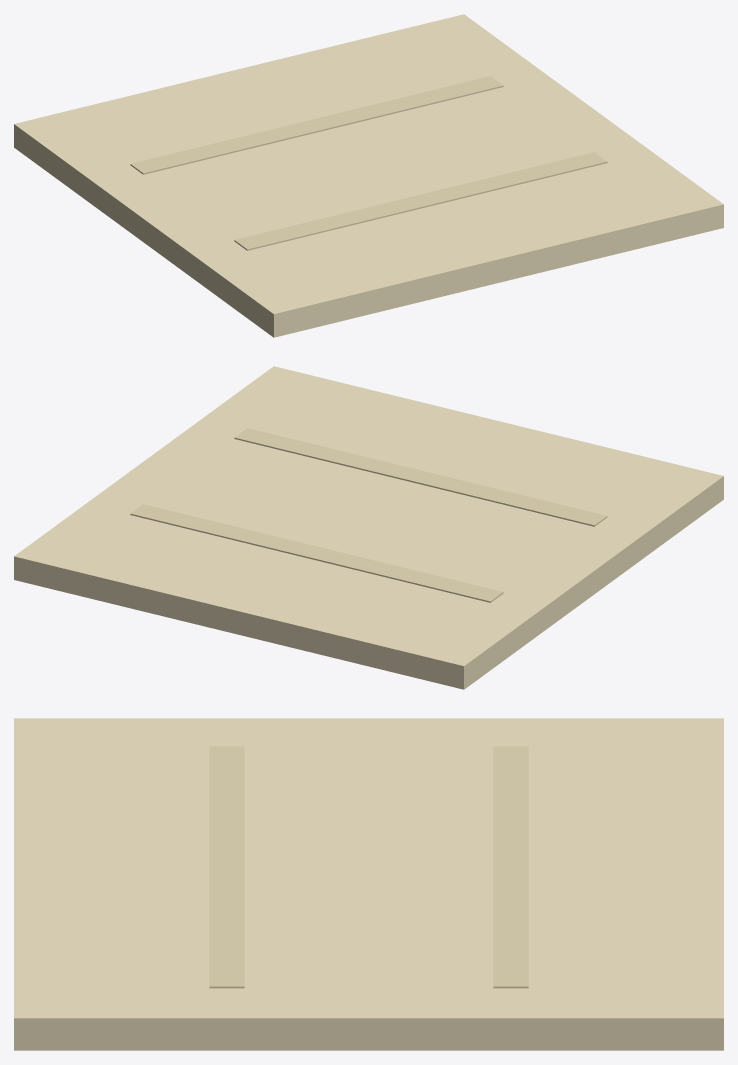
File: ground_sand.glb
3 renders of one model, top to bottom at view 1: azimuth 30°, elevation 25°; view 2: azimuth 150°, elevation 25°; view 3: azimuth 270°, elevation 25°, orthographic. The views are drawn at different scales.
Visible parts, largest first — view 1: ground_sand; view 2: ground_sand; view 3: ground_sand.
Part boxes in pixels (x1,y1,x2,y2): ground_sand: (14, 14, 723, 337); ground_sand: (14, 366, 723, 689); ground_sand: (14, 718, 723, 1050).
Size of the model in its own units: 1 by 0.053 by 1.
